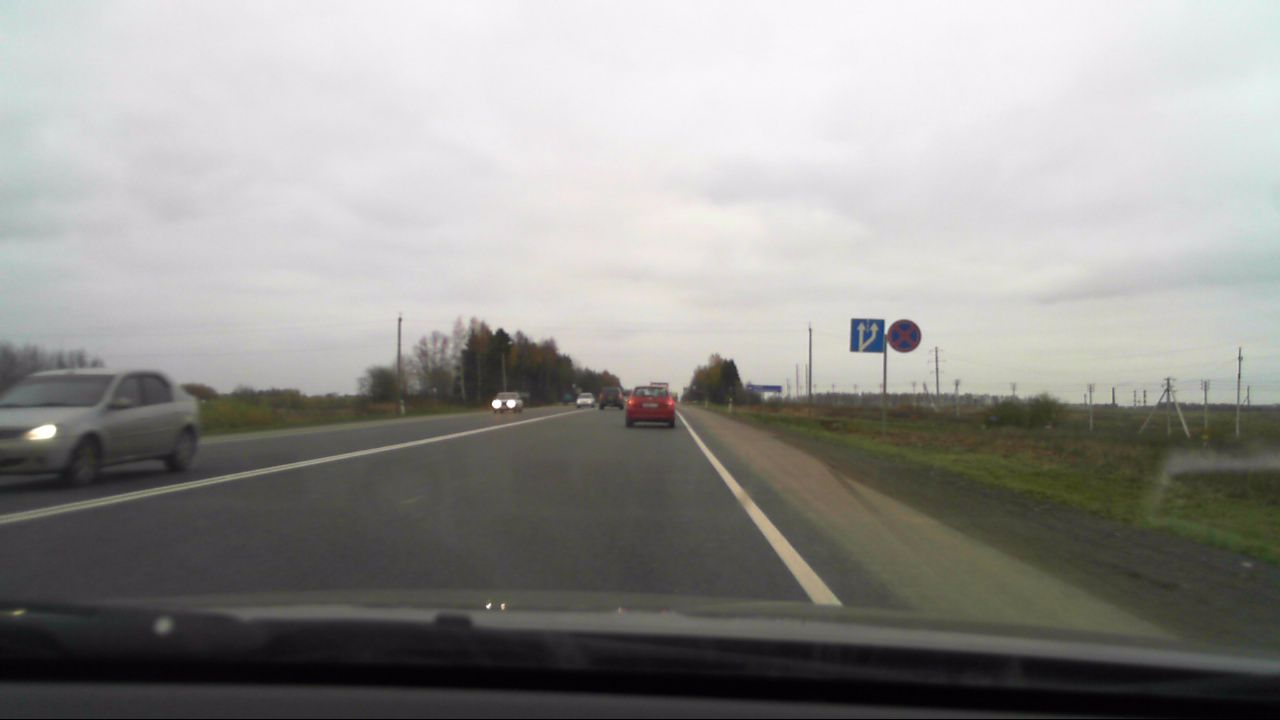No Parking: (887, 318, 922, 352)
